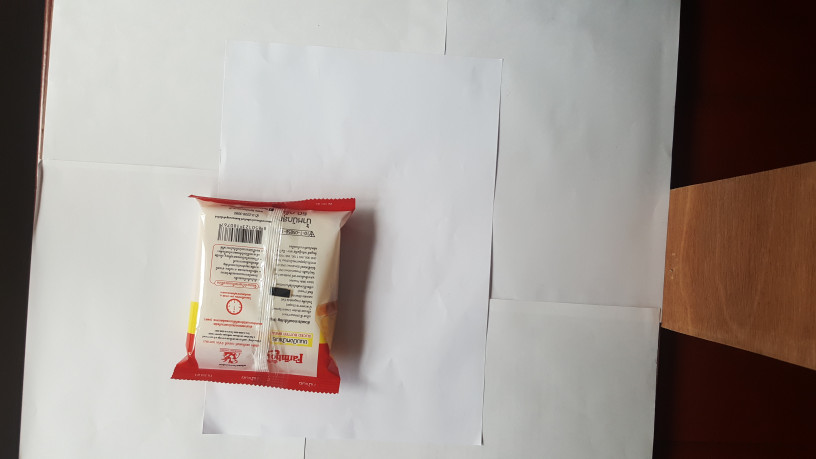farmhouse-bread-butter: (169, 186, 360, 405)
